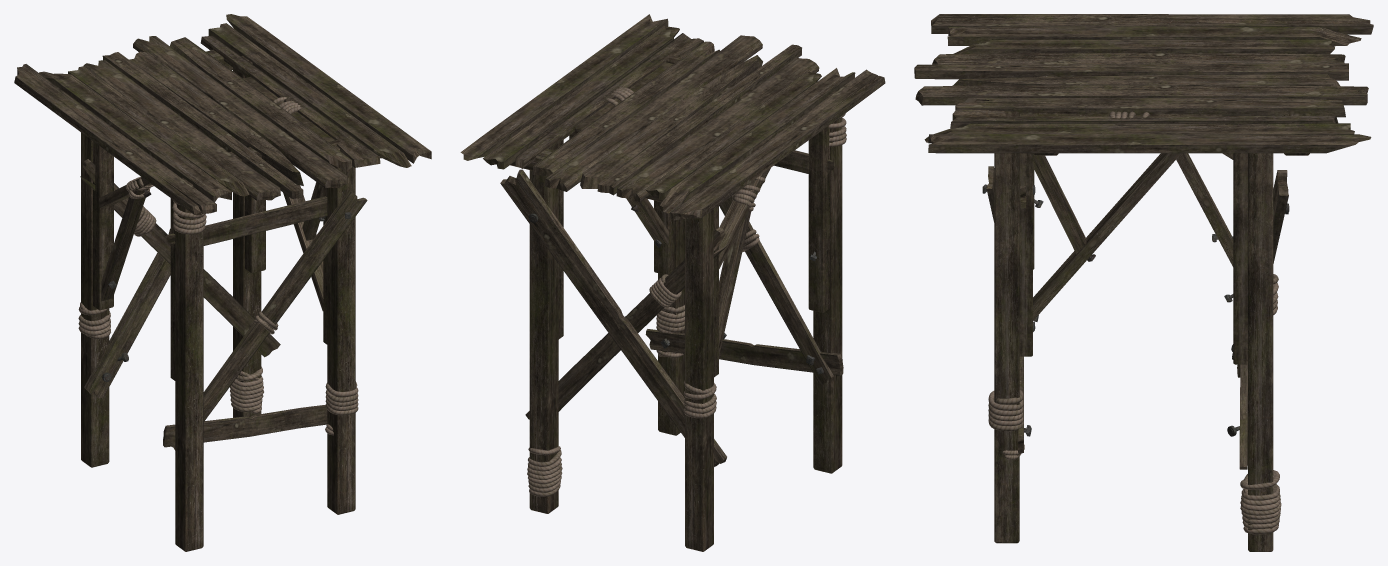
File: dock_main05.fbx
The picture shows the model from 3 angles, left to right: view 1: azimuth 30°, elevation 25°; view 2: azimuth 150°, elevation 25°; view 3: azimuth 270°, elevation 25°; orthographic projection. The views are drawn at different scales.
Parts seen in each view (by area): view 1: dock_main05; view 2: dock_main05; view 3: dock_main05.
Part boxes in pixels (x1,y1,x2,y2): dock_main05: (14, 14, 431, 551); dock_main05: (460, 14, 885, 551); dock_main05: (914, 14, 1373, 551).
Size of the model in its own units: 479 by 718 by 703.
